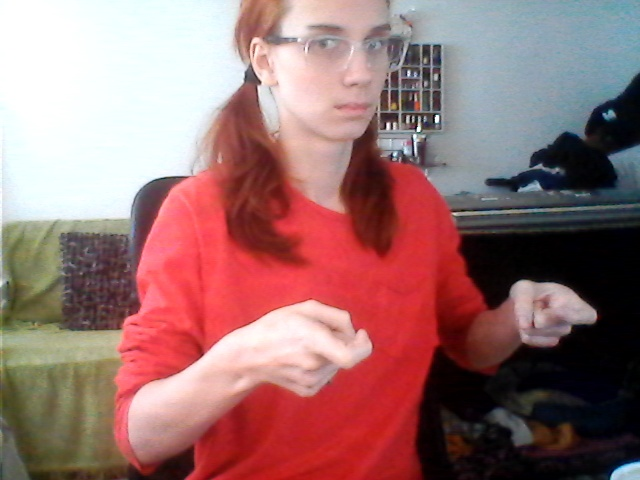davat: (257, 265, 607, 405)
